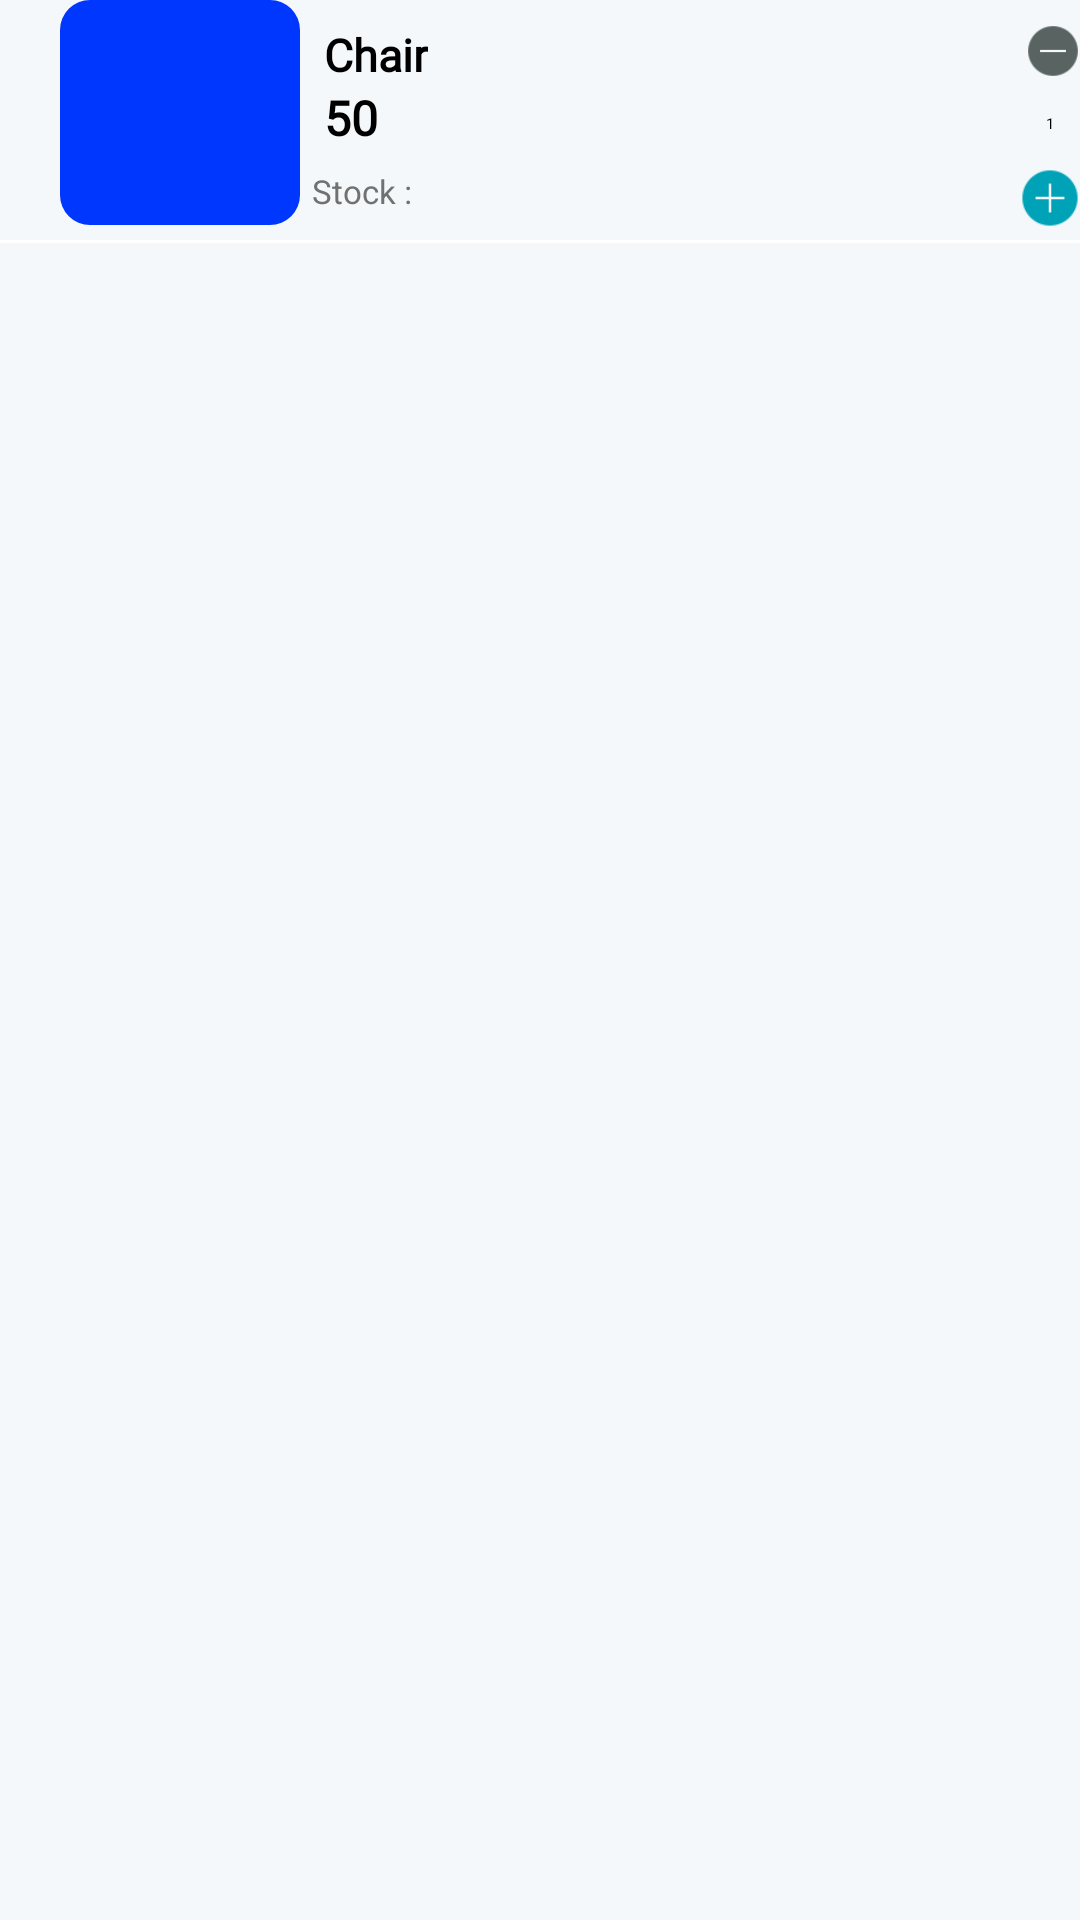

Icons on this 1080px x 1920px Android screen, each with its box as (x1, y1, x2, y2):
decrement: (1028, 26, 1078, 76)
increment: (1022, 170, 1078, 226)
